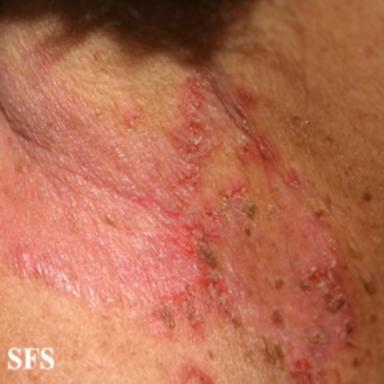Hailey-Hailey-Disease: (142, 73, 374, 382), (170, 360, 214, 383)
